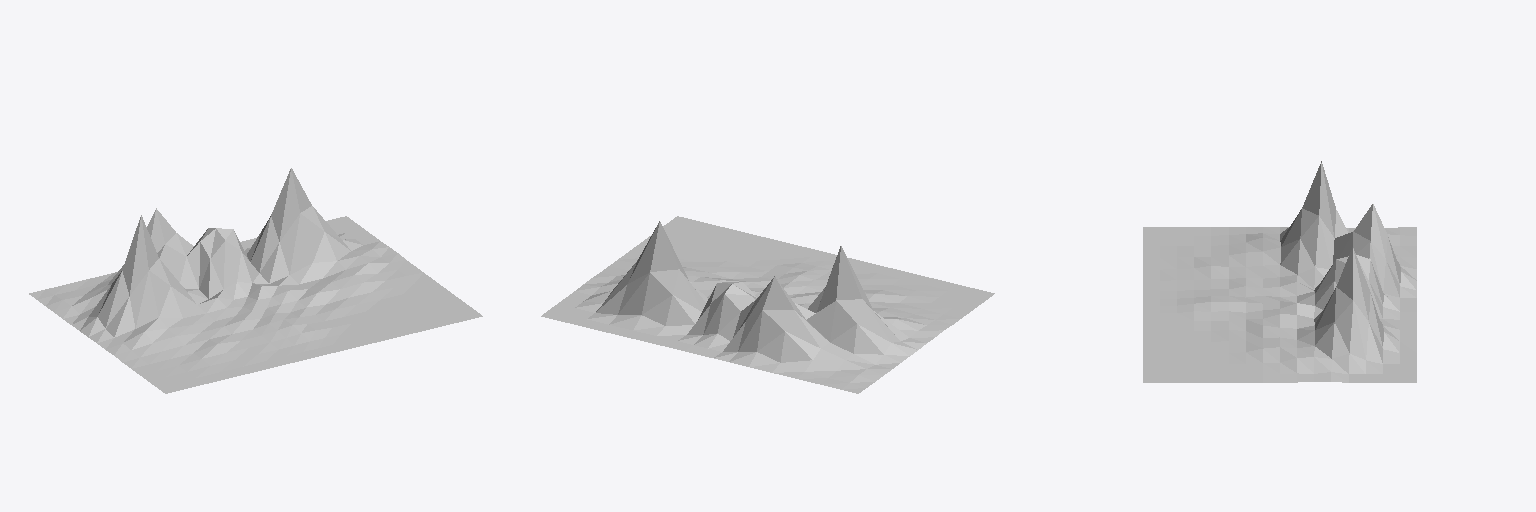
Rendered from lowpolymountains.obj.
3 views of the same model, side by side, from view 1: azimuth 30°, elevation 25°; view 2: azimuth 150°, elevation 25°; view 3: azimuth 270°, elevation 25° (orthographic).
Parts seen in each view (by area): view 1: Mesh; view 2: Mesh; view 3: Mesh.
Boxes of the visible parts, <box> form: Mesh: <box>29,168,482,393</box>; Mesh: <box>541,216,994,393</box>; Mesh: <box>1143,161,1416,382</box>.
Size of the model in its own units: 21.26 by 6.3 by 15.86.